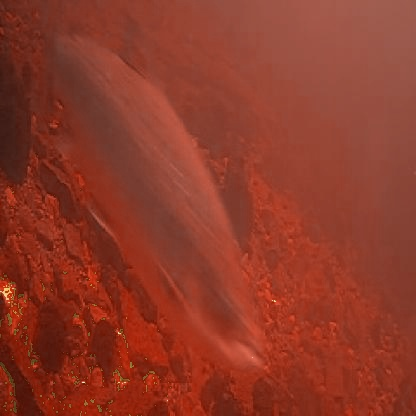salmon: (37, 2, 277, 378)
